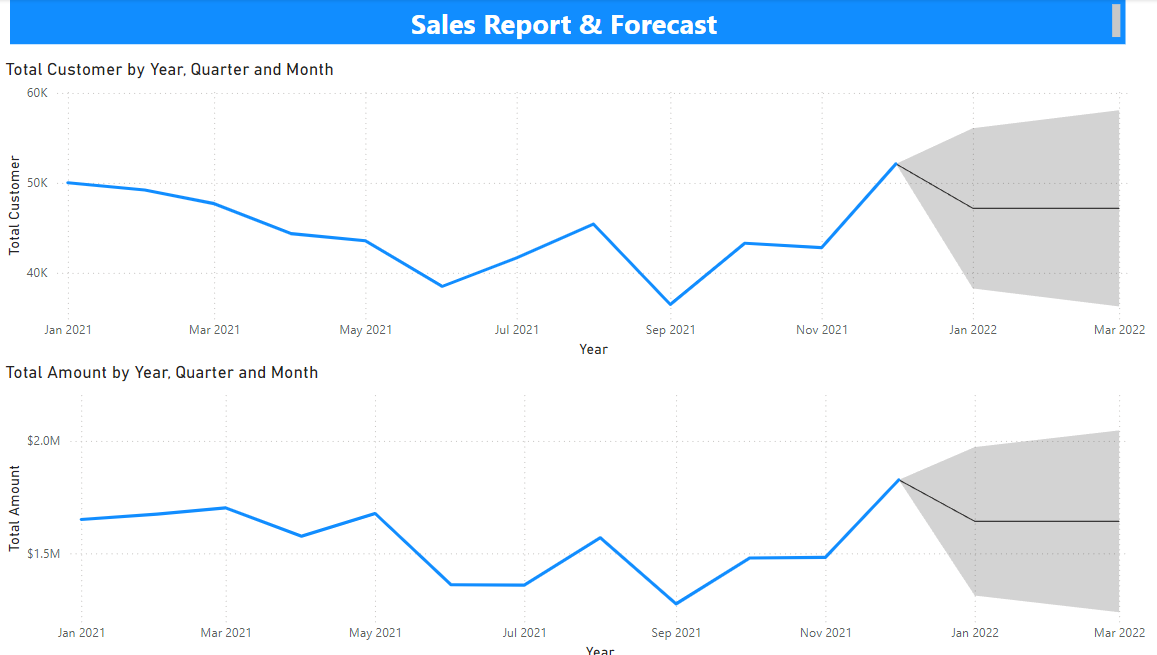

What the dashboard file says about the page in this screenshot:
{"tool":"powerbi","page":{"name":"Trend Analysis and Forecasting","canvas":[1280,720],"ordinal":2},"visuals":[{"type":"textbox","box":[9.7,0,1085.5,43.8],"z":0},{"type":"lineChart","fields":{"Category":["sales.Date.Variation.Date Hierarchy.Year","sales.Date.Variation.Date Hierarchy.Quarter","sales.Date.Variation.Date Hierarchy.Month","sales.Date.Variation.Date Hierarchy.Day"],"Y":["sales.Total Customer"]},"box":[0,58.4,1119.5,294.7],"z":1000},{"type":"lineChart","title":"Total Amount by Year, Quarter and Month","fields":{"Category":["sales.Date.Variation.Date Hierarchy.Year","sales.Date.Variation.Date Hierarchy.Quarter","sales.Date.Variation.Date Hierarchy.Month","sales.Date.Variation.Date Hierarchy.Day"],"Y":["sales.Total Amount"]},"box":[0,353.1,1119.5,294.7],"z":2000}]}

Visuals, with their boxes in screenshot pixels (x1, y1, x2, y2), scaled from the page's 1280x720 canvas onto the 1157x655 screenshot:
textbox: <box>9,0,990,40</box>
lineChart - sales.Date.Variation.Date Hierarchy.Year x sales.Date.Variation.Date Hierarchy.Quarter: <box>0,53,1012,321</box>
"Total Amount by Year, Quarter and Month" lineChart: <box>0,321,1012,589</box>
